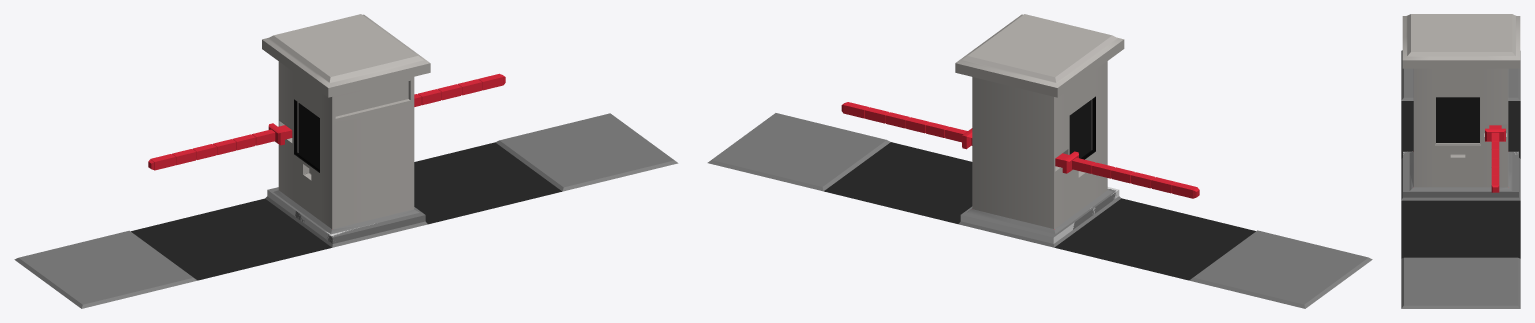
Rendered from maingate.fbx.
The picture shows the model from 3 angles, left to right: view 1: azimuth 30°, elevation 25°; view 2: azimuth 150°, elevation 25°; view 3: azimuth 270°, elevation 25°; orthographic projection. The views are drawn at different scales.
Parts seen in each view (by area): view 1: Cube.001, Cube; view 2: Cube.001, Cube; view 3: Cube.001.
Boxes of the visible parts, x1,y1,x2,y2 form: Cube.001: (14, 14, 678, 308); Cube: (267, 190, 374, 240); Cube.001: (707, 14, 1372, 308); Cube: (960, 187, 1119, 243); Cube.001: (1401, 14, 1520, 308).
Size of the model in its own units: 1286 by 341 by 251.
